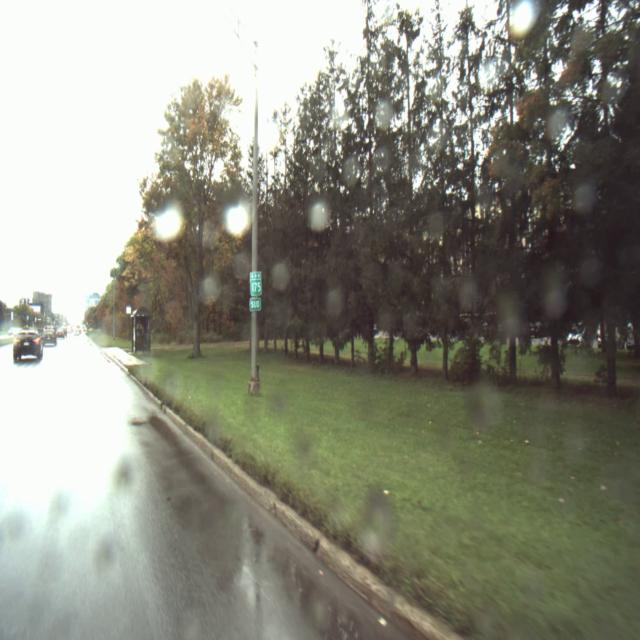car: (12, 329, 42, 364), (41, 328, 57, 346), (56, 327, 65, 339)
